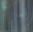bike lane: (2, 2, 32, 29)
